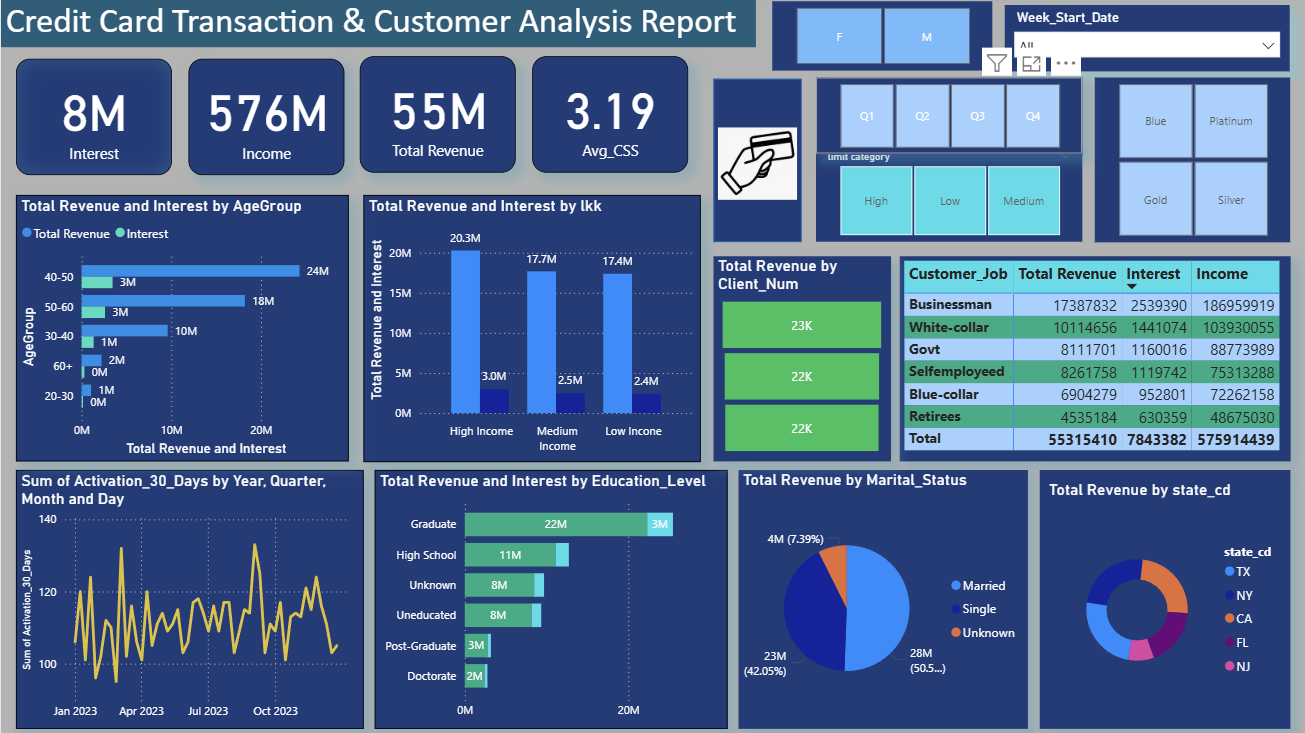

Layout of this report page (visuals, bound fields, positions):
{"tool":"powerbi","page":{"name":"Customer Information","canvas":[1400,800],"ordinal":1},"visuals":[{"type":"textbox","box":[0,0,809.7,45.6],"z":0},{"type":"slicer","fields":{"Values":["credit_card.Week_Start_Date"]},"box":[1077.1,10.4,305.3,71.1],"z":1000},{"type":"slicer","fields":{"Values":["customer.Gender"]},"box":[827.3,6.9,235.9,74.6],"z":2000},{"type":"slicer","fields":{"Values":["credit_card.Card_Category"]},"box":[1172.5,88.5,209.9,176.9],"z":3000},{"type":"slicer","fields":{"Values":["credit_card.limit category"]},"box":[874.2,162.5,285.6,102.6],"z":4000},{"type":"card","fields":{"Values":["measure.Interest"]},"box":[15.8,67.9,167.3,124.7],"z":5000},{"type":"card","fields":{"Values":["measure.Total Revenue"]},"box":[385,66.3,167.3,124.7],"z":6000},{"type":"card","fields":{"Values":["measure.Income"]},"box":[200.4,67.9,167.3,124.7],"z":7000},{"type":"card","fields":{"Values":["measure.CSS"]},"box":[569.7,66.3,167.3,124.7],"z":8000},{"type":"pivotTable","fields":{"Rows":["customer.Customer_Job"],"Values":["measure.Total Revenue","measure.Interest","measure.Income"]},"box":[963.6,280.6,419.4,219.6],"z":9000},{"type":"lineChart","fields":{"Category":["credit_card.Week_Start_Date.Variation.Date Hierarchy.Year","credit_card.Week_Start_Date.Variation.Date Hierarchy.Quarter","credit_card.Week_Start_Date.Variation.Date Hierarchy.Month","credit_card.Week_Start_Date.Variation.Date Hierarchy.Day"],"Y":["Sum(credit_card.Activation_30_Days)"]},"box":[15.8,509.7,372.4,277.7],"z":10000},{"type":"clusteredColumnChart","fields":{"Category":["customer.Income group"],"Y":["measure.Total Revenue","measure.Interest"]},"box":[388.3,214,361.3,286.2],"z":11000},{"type":"clusteredBarChart","fields":{"Y":["measure.Total Revenue","measure.Interest"],"Category":["customer.AgeGroup"]},"box":[15.8,214.6,356.6,285.6],"z":12000},{"type":"barChart","fields":{"Y":["measure.Total Revenue","measure.Interest"],"Category":["customer.Education_Level"]},"box":[400.7,509.9,378.1,277.5],"z":13000},{"type":"pieChart","fields":{"Category":["customer.Marital_Status"],"Y":["measure.Total Revenue"]},"box":[790.9,509.9,310.5,277.5],"z":14000},{"type":"donutChart","fields":{"Y":["measure.Total Revenue"],"Category":["customer.state_cd"]},"box":[1113.5,509.9,268.8,277.5],"z":15000},{"type":"slicer","fields":{"Values":["credit_card.Qtr"]},"box":[874.2,88.4,285.6,82.1],"z":16000},{"type":"funnel","fields":{"Y":["measure.Total Revenue"],"Category":["customer.Client_Num"]},"box":[763.8,280.6,190,219.6],"z":17000},{"type":"shape","box":[763.8,89.9,94.7,175.2],"z":19000},{"type":"image","box":[763.8,80.5,94.7,200.4],"z":20000}]}

Visuals, with their boxes in screenshot pixels (x1, y1, x2, y2), scaled from the page's 1400x800 canvas onto the 1305x733 screenshot:
textbox: detection(0, 0, 755, 42)
slicer - credit_card.Week_Start_Date: detection(1004, 10, 1289, 75)
slicer - customer.Gender: detection(771, 6, 991, 75)
slicer - credit_card.Card_Category: detection(1093, 81, 1289, 243)
slicer - credit_card.limit category: detection(815, 149, 1081, 243)
card - measure.Interest: detection(15, 62, 171, 176)
card - measure.Total Revenue: detection(359, 61, 515, 175)
card - measure.Income: detection(187, 62, 343, 176)
card - measure.CSS: detection(531, 61, 687, 175)
pivotTable - customer.Customer_Job x measure.Total Revenue: detection(898, 257, 1289, 458)
lineChart - credit_card.Week_Start_Date.Variation.Date Hierarchy.Year x credit_card.Week_Start_Date.Variation.Date Hierarchy.Quarter: detection(15, 467, 362, 721)
clusteredColumnChart - customer.Income group x measure.Total Revenue: detection(362, 196, 699, 458)
clusteredBarChart - measure.Total Revenue x measure.Interest: detection(15, 197, 347, 458)
barChart - measure.Total Revenue x measure.Interest: detection(374, 467, 726, 721)
pieChart - customer.Marital_Status x measure.Total Revenue: detection(737, 467, 1027, 721)
donutChart - measure.Total Revenue x customer.state_cd: detection(1038, 467, 1289, 721)
slicer - credit_card.Qtr: detection(815, 81, 1081, 156)
funnel - measure.Total Revenue x customer.Client_Num: detection(712, 257, 889, 458)
shape: detection(712, 82, 800, 243)
image: detection(712, 74, 800, 257)
